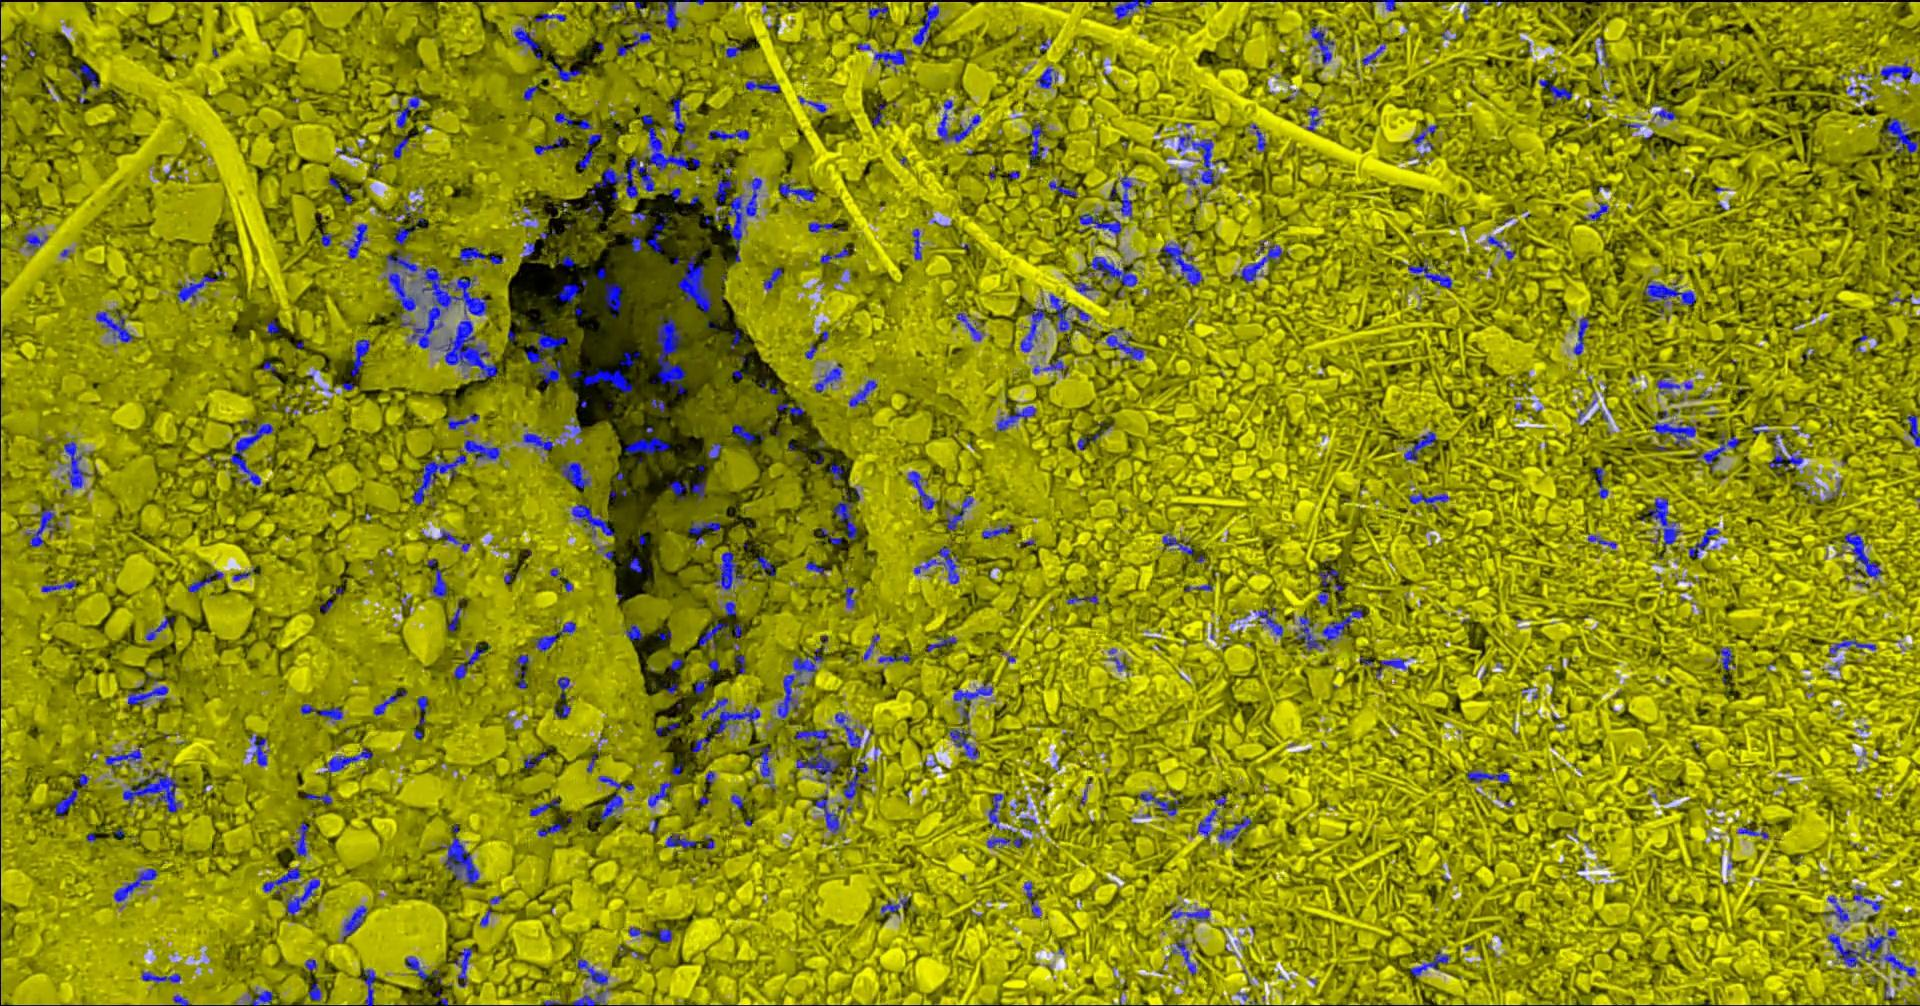ant: (714, 177, 761, 260), (691, 697, 759, 752), (777, 647, 822, 716), (229, 418, 272, 485), (1020, 293, 1070, 351), (122, 768, 180, 812), (1176, 133, 1222, 185), (795, 729, 838, 782), (524, 332, 565, 387), (441, 824, 477, 885), (383, 249, 418, 311), (677, 250, 711, 311), (1158, 243, 1203, 286), (937, 99, 980, 142), (1843, 530, 1879, 578), (1695, 432, 1738, 471), (913, 545, 957, 583), (1647, 497, 1680, 547), (1239, 244, 1281, 282), (1321, 605, 1363, 641), (113, 868, 157, 901), (569, 370, 632, 392), (1087, 257, 1137, 286), (571, 503, 613, 536), (1652, 419, 1700, 447), (1196, 795, 1225, 841), (815, 795, 851, 832), (1407, 259, 1451, 288), (1883, 117, 1919, 152), (25, 508, 58, 546), (1643, 279, 1695, 304), (535, 621, 575, 652), (324, 747, 372, 772), (907, 471, 937, 511), (832, 489, 856, 539), (63, 441, 89, 488), (286, 879, 319, 915), (95, 311, 133, 342), (715, 551, 745, 589), (616, 23, 651, 55), (455, 643, 485, 680), (949, 723, 979, 760), (1078, 213, 1121, 239), (749, 744, 775, 788), (1138, 789, 1178, 815), (912, 5, 938, 44), (842, 761, 869, 799), (1106, 333, 1143, 359), (1297, 615, 1323, 652), (177, 276, 215, 301), (1688, 527, 1719, 558), (262, 868, 300, 893), (945, 495, 973, 530), (996, 406, 1035, 431), (1410, 951, 1449, 976), (105, 746, 142, 771), (127, 683, 168, 706), (1403, 431, 1435, 460), (1309, 25, 1333, 64), (1768, 448, 1802, 475), (952, 681, 992, 704), (659, 0, 690, 29), (1253, 606, 1283, 636), (342, 904, 366, 941), (513, 27, 541, 58), (1538, 79, 1571, 105), (687, 517, 720, 544), (834, 713, 860, 747), (559, 461, 590, 488), (577, 958, 608, 984), (373, 690, 406, 715), (623, 436, 670, 453), (712, 171, 737, 206), (343, 224, 367, 258), (1217, 815, 1251, 840), (458, 246, 502, 265), (1172, 939, 1195, 974), (646, 212, 667, 251), (668, 480, 705, 502), (578, 133, 601, 168), (848, 379, 876, 406), (1829, 639, 1876, 655), (1112, 0, 1150, 20), (872, 50, 910, 70), (1408, 492, 1449, 511), (427, 558, 447, 596), (697, 622, 728, 648), (187, 570, 222, 592), (395, 95, 419, 127), (956, 312, 983, 340), (814, 365, 841, 392), (667, 95, 686, 133), (731, 423, 764, 445), (1822, 895, 1849, 922), (1487, 235, 1515, 260), (1029, 122, 1048, 159), (778, 182, 815, 201), (350, 339, 370, 376), (1879, 61, 1919, 79), (69, 64, 99, 86), (438, 528, 469, 551), (300, 702, 342, 719), (1116, 174, 1131, 218), (603, 282, 622, 318), (453, 948, 471, 986), (405, 956, 430, 983), (145, 616, 173, 640), (556, 279, 585, 302), (55, 788, 77, 817), (554, 112, 590, 130), (599, 793, 622, 821), (1851, 887, 1879, 909), (1162, 533, 1192, 554), (1655, 376, 1691, 392), (1465, 768, 1509, 782), (1023, 882, 1040, 917), (648, 781, 670, 807), (1032, 357, 1067, 373), (447, 412, 479, 429), (1573, 318, 1589, 354), (1361, 44, 1384, 69), (1170, 906, 1209, 920), (551, 64, 582, 81), (522, 432, 552, 450), (530, 796, 557, 815), (880, 895, 908, 915), (598, 775, 632, 790), (293, 822, 309, 856), (533, 136, 563, 154), (819, 246, 850, 263), (985, 836, 1029, 847), (1412, 124, 1436, 145), (988, 793, 1002, 827), (1035, 66, 1057, 88), (752, 555, 775, 575), (926, 636, 956, 652), (250, 734, 265, 765), (664, 833, 695, 848), (797, 95, 825, 112), (447, 598, 461, 631), (571, 991, 604, 1005), (363, 969, 376, 1005), (141, 970, 180, 982), (1594, 466, 1608, 498), (982, 525, 1013, 539), (1317, 565, 1338, 586), (763, 267, 782, 290), (1109, 648, 1128, 671), (516, 654, 528, 688), (1583, 202, 1608, 220), (1250, 123, 1265, 151), (707, 130, 749, 140), (1048, 180, 1076, 196), (863, 633, 879, 661), (1587, 533, 1617, 547), (744, 80, 780, 91), (41, 579, 76, 591), (1906, 414, 1919, 446), (1736, 826, 1768, 838), (1305, 105, 1321, 131), (523, 752, 546, 768), (392, 133, 408, 158), (248, 989, 272, 1005), (392, 226, 413, 244), (1077, 432, 1098, 448), (777, 401, 803, 415), (537, 822, 563, 836), (1719, 647, 1735, 669), (869, 0, 888, 18), (805, 561, 829, 575), (23, 232, 43, 249), (820, 527, 841, 544), (1065, 593, 1097, 603), (1380, 658, 1408, 669), (655, 721, 678, 735), (625, 622, 643, 640), (535, 11, 565, 22), (618, 351, 639, 366), (871, 103, 885, 124), (877, 653, 910, 662), (303, 793, 331, 803), (912, 227, 921, 259), (1652, 108, 1676, 119), (552, 702, 570, 718), (1076, 281, 1095, 295), (557, 676, 569, 699), (725, 44, 745, 57), (808, 222, 833, 232), (734, 648, 744, 673), (1377, 0, 1401, 10), (657, 927, 672, 942), (523, 84, 537, 100), (1073, 307, 1090, 321), (707, 442, 721, 459), (829, 464, 843, 480), (629, 211, 646, 224), (629, 556, 643, 572), (1183, 583, 1211, 591), (844, 587, 855, 607), (309, 982, 320, 1000), (667, 187, 681, 201), (650, 398, 664, 412), (695, 680, 709, 694), (730, 794, 744, 808), (555, 255, 574, 265), (265, 319, 278, 334), (320, 230, 331, 246), (1751, 423, 1768, 434), (627, 927, 651, 935), (724, 601, 737, 615), (171, 995, 188, 1005), (262, 361, 276, 372), (610, 0, 625, 10), (631, 236, 641, 251), (1317, 589, 1327, 605), (417, 695, 427, 710), (669, 658, 682, 669), (77, 774, 88, 788), (709, 658, 719, 671)
